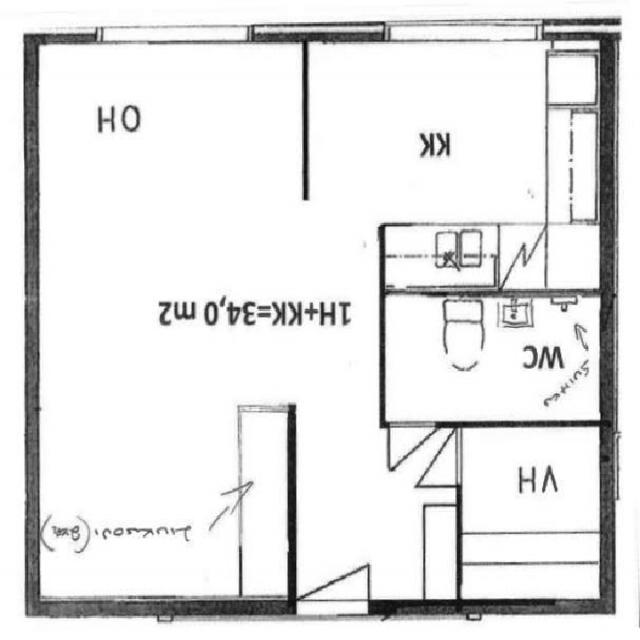door: (298, 514, 369, 616), (388, 420, 437, 484), (408, 428, 462, 486)
